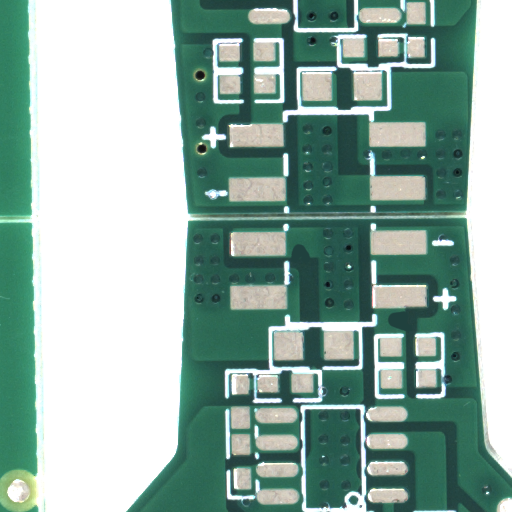Mouse_bite: (398, 321, 417, 340), (300, 251, 319, 267)
